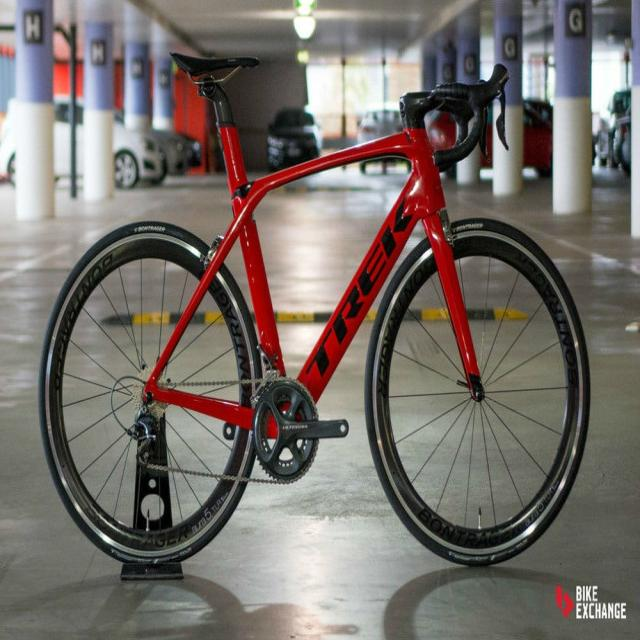road-bike: (35, 54, 592, 571)
